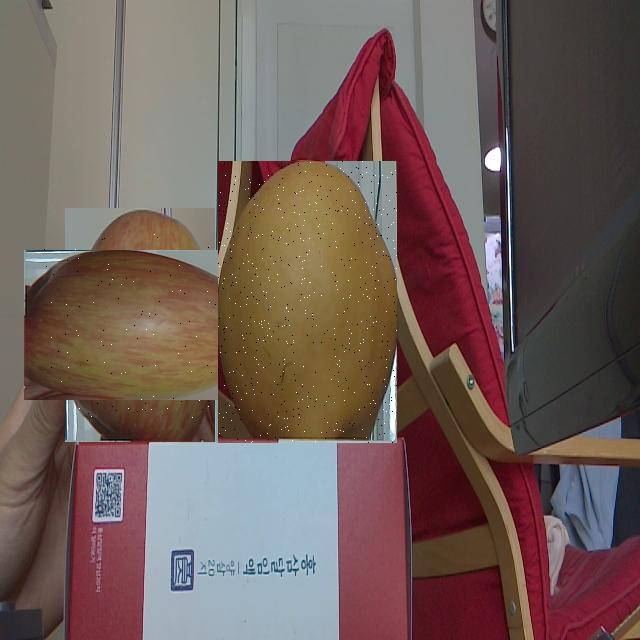apple: (44, 229, 236, 421)
pear: (218, 161, 397, 443)
